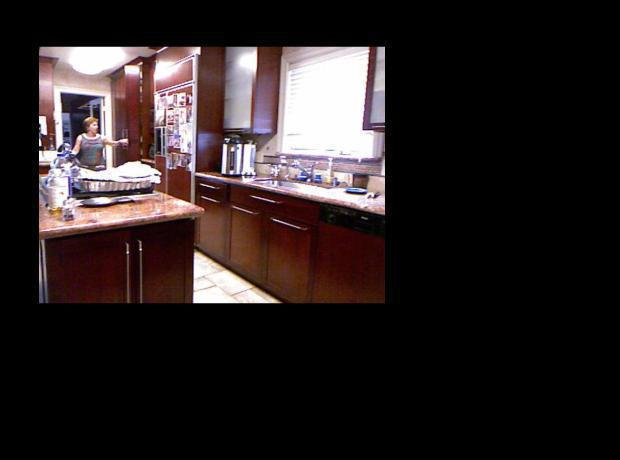Lavaplatos: (247, 148, 335, 202)
